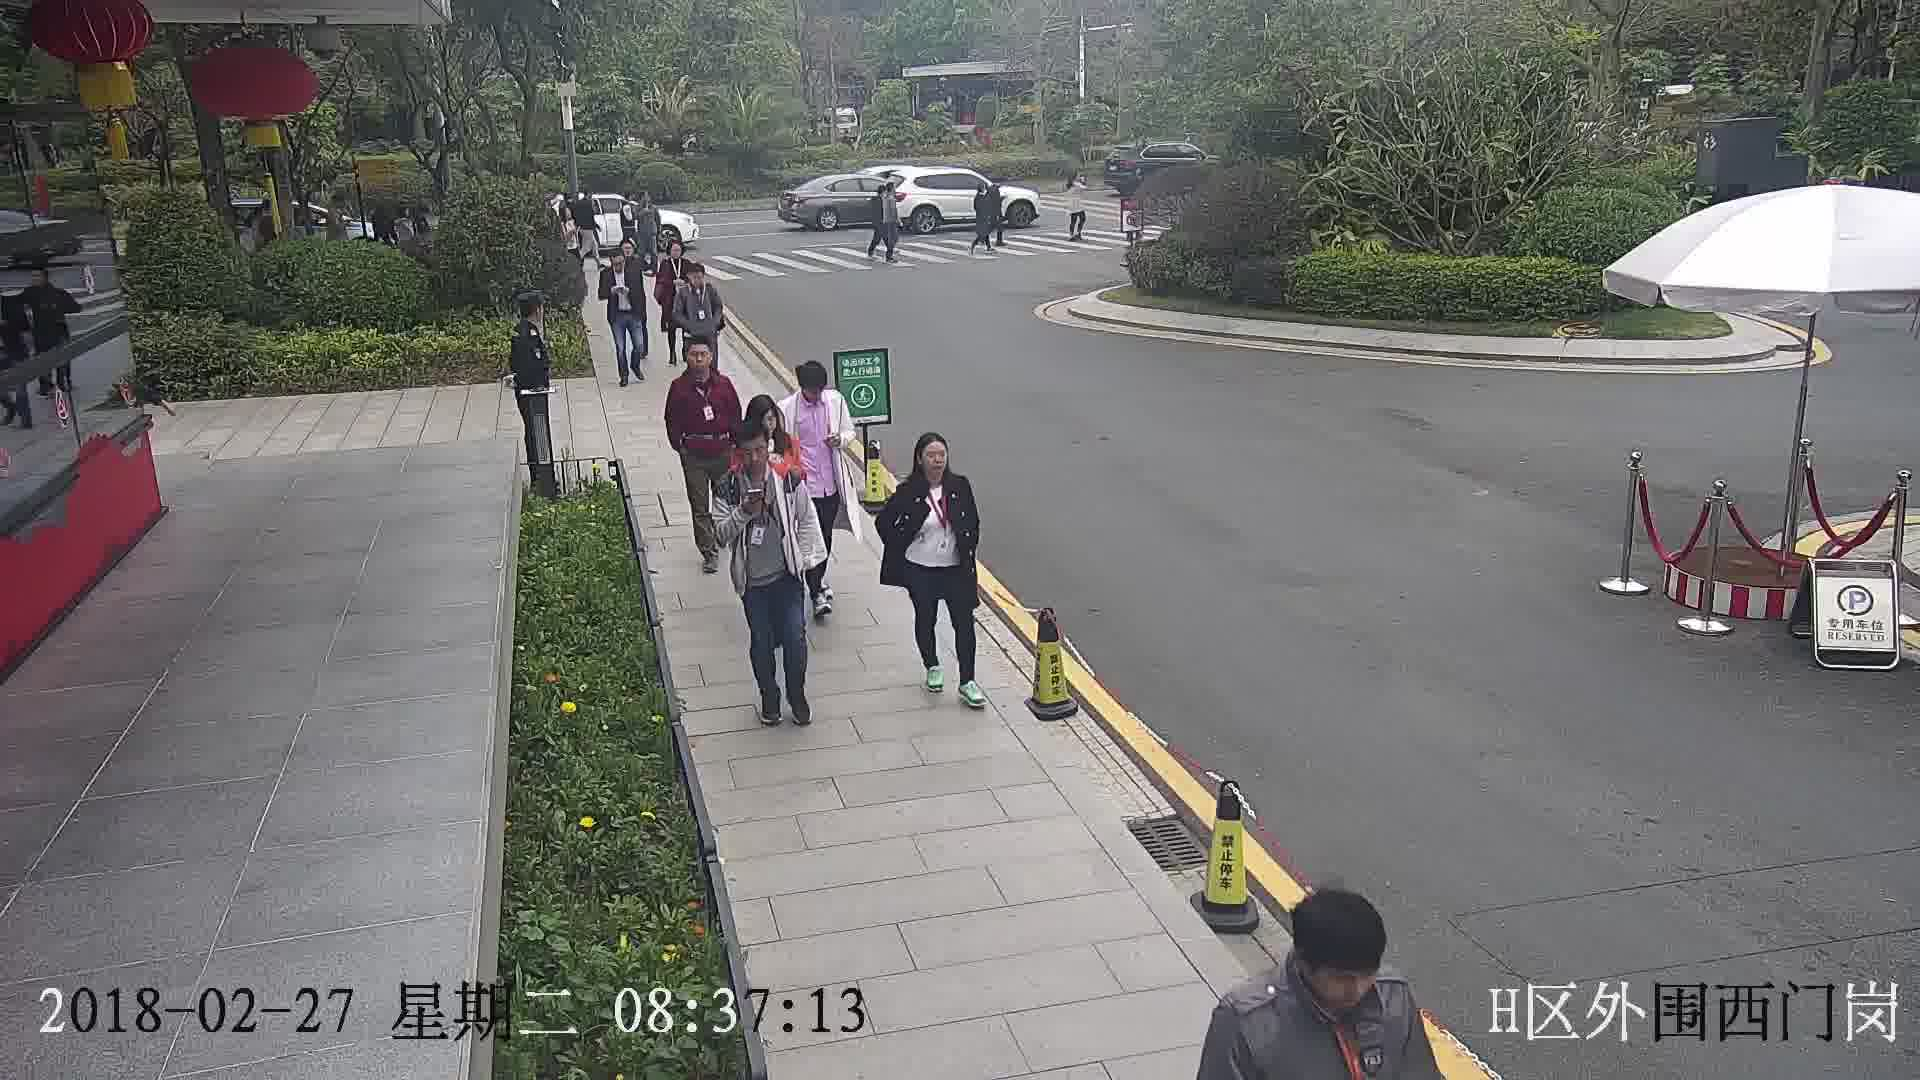face: (1316, 957, 1367, 1008), (914, 441, 950, 481), (736, 432, 768, 476), (683, 343, 717, 378)
person: (1204, 889, 1435, 1061), (720, 420, 796, 505), (892, 431, 974, 507), (780, 359, 841, 419), (671, 337, 732, 398), (734, 391, 791, 455), (22, 258, 70, 306), (509, 292, 551, 343), (675, 258, 718, 299), (658, 235, 690, 270), (619, 235, 647, 271), (601, 245, 629, 279), (877, 178, 903, 204), (558, 200, 575, 228), (1067, 167, 1082, 195), (631, 191, 652, 212), (984, 171, 1004, 192), (971, 181, 989, 202), (579, 187, 596, 210)
